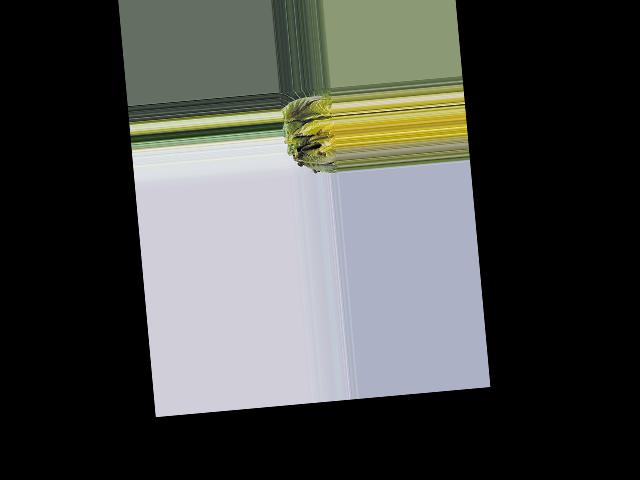lettuce: (281, 87, 339, 173)
